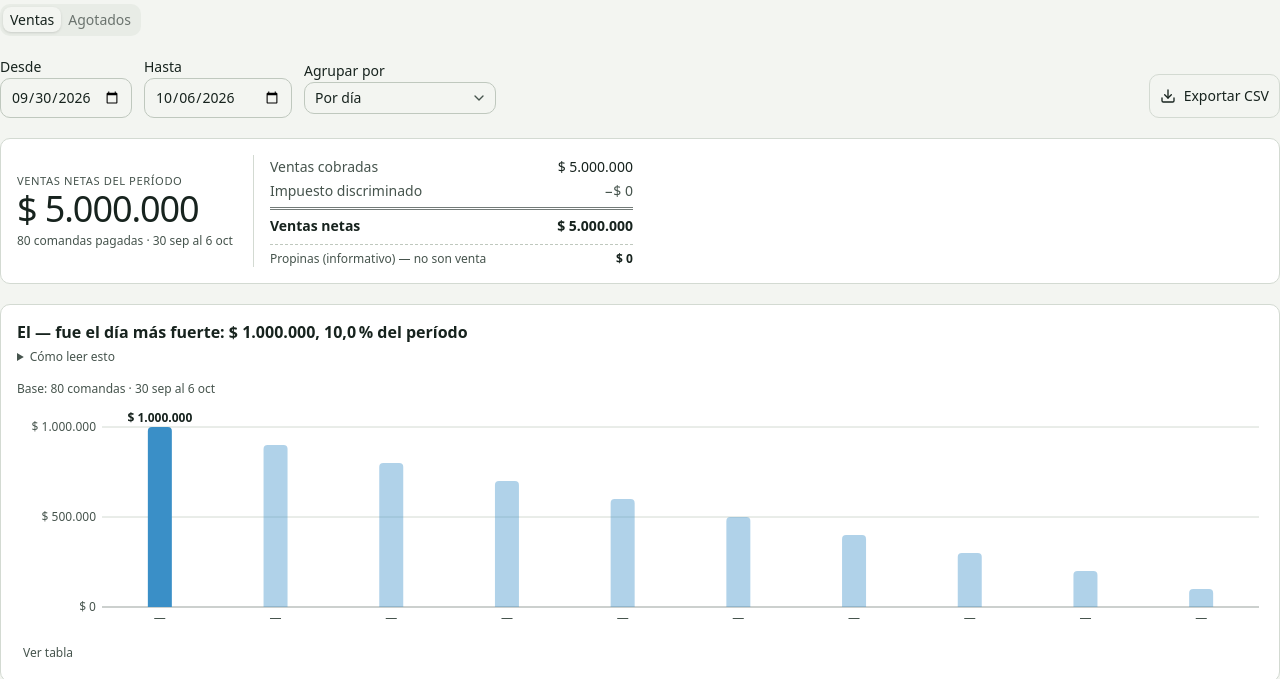
Test: SalesPage › por plato: pide `group_by=product`, barras con las 7 más grandes y «y N más», unidades y sin columna de propinas
Check: the text "Ventas netas del período" is shown, box [17, 172, 182, 188]
Step 1. Click the dropdown named "Agrupar por" → (400, 98), box [304, 82, 496, 114]
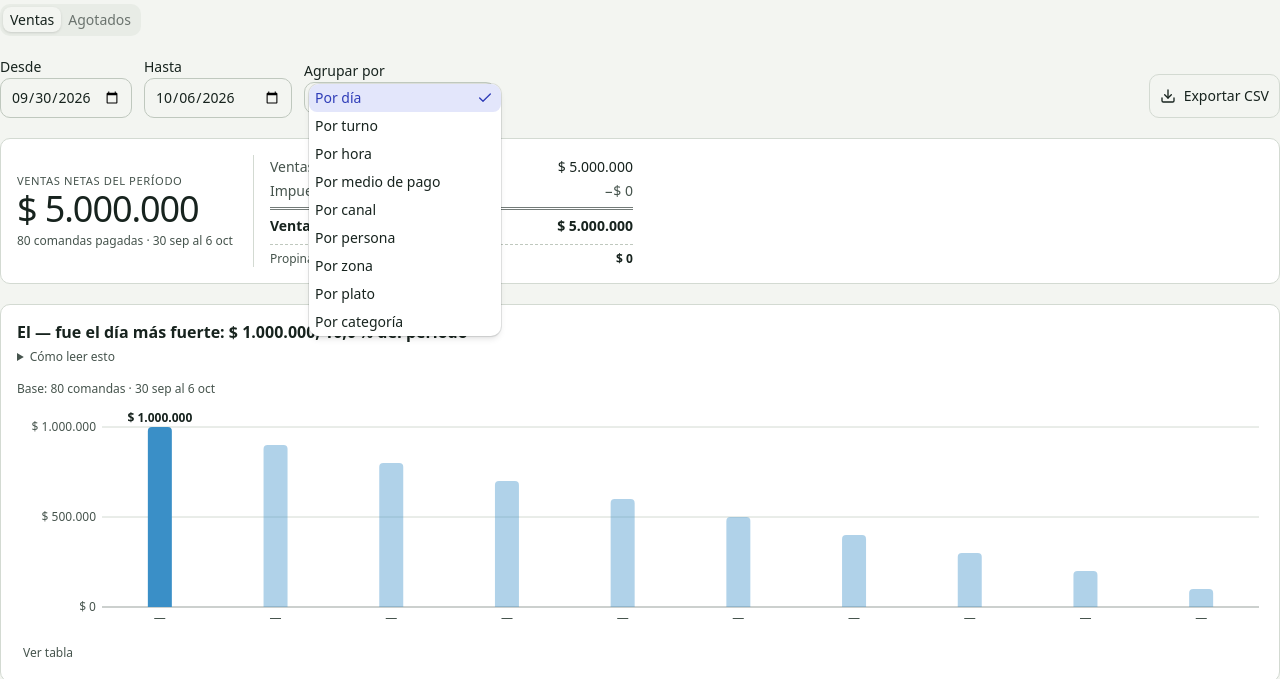
Step 2. Click the option "Por plato" → (345, 293), box [315, 284, 375, 302]
(page scrolled)
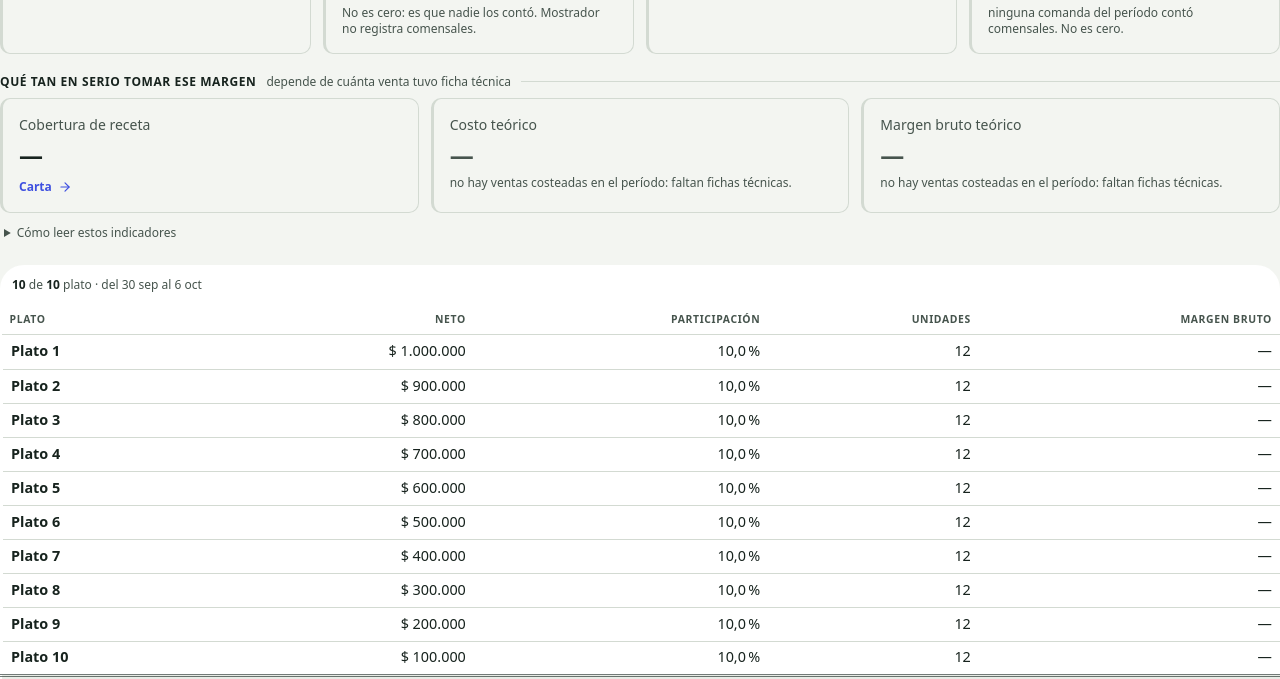
Check: the column heading "Propinas" is not shown
Check: the column heading "Unidades" is shown, box [768, 304, 979, 334]
